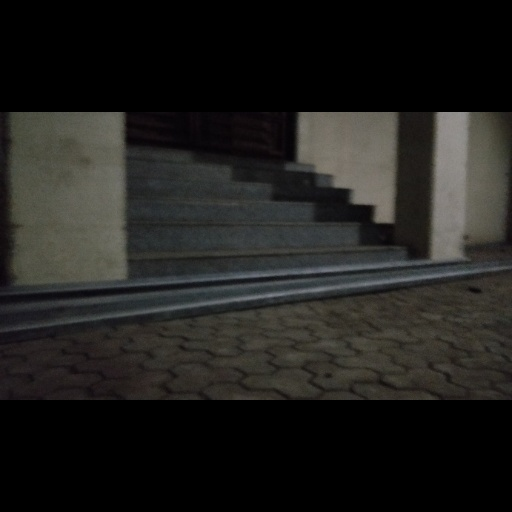Stairs: (127, 146, 407, 278)
